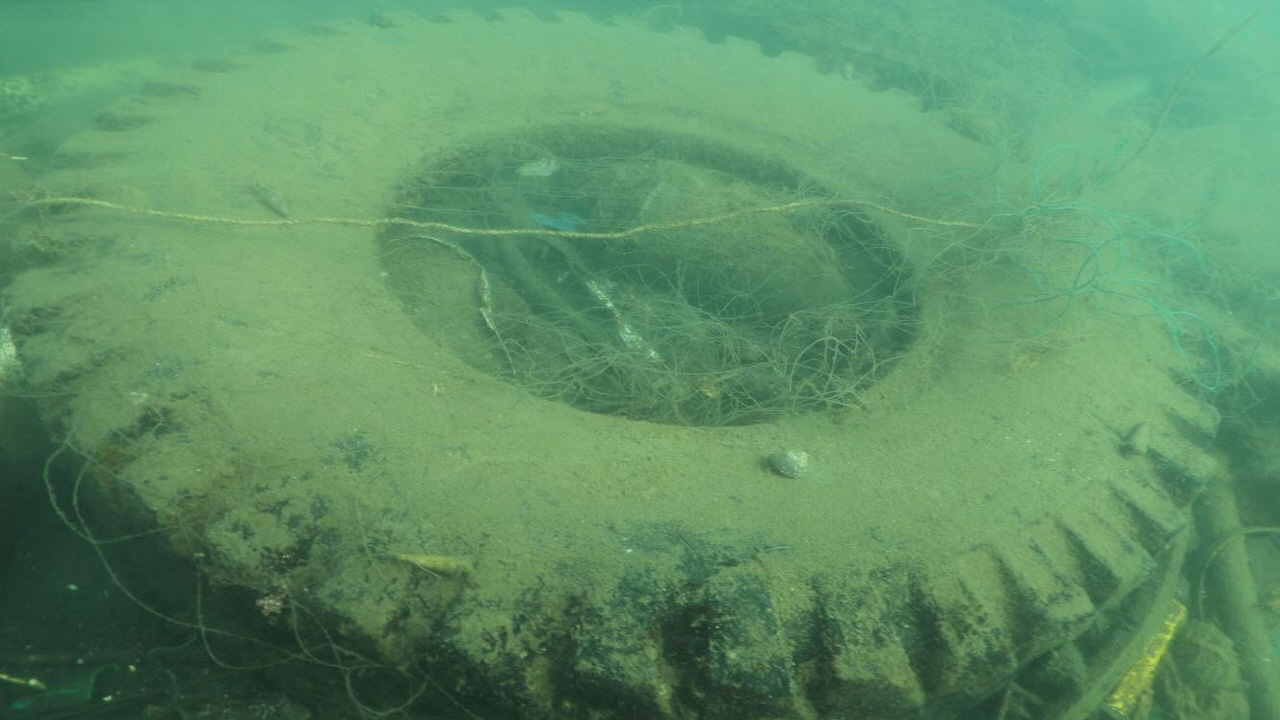tire: (0, 3, 1215, 720)
